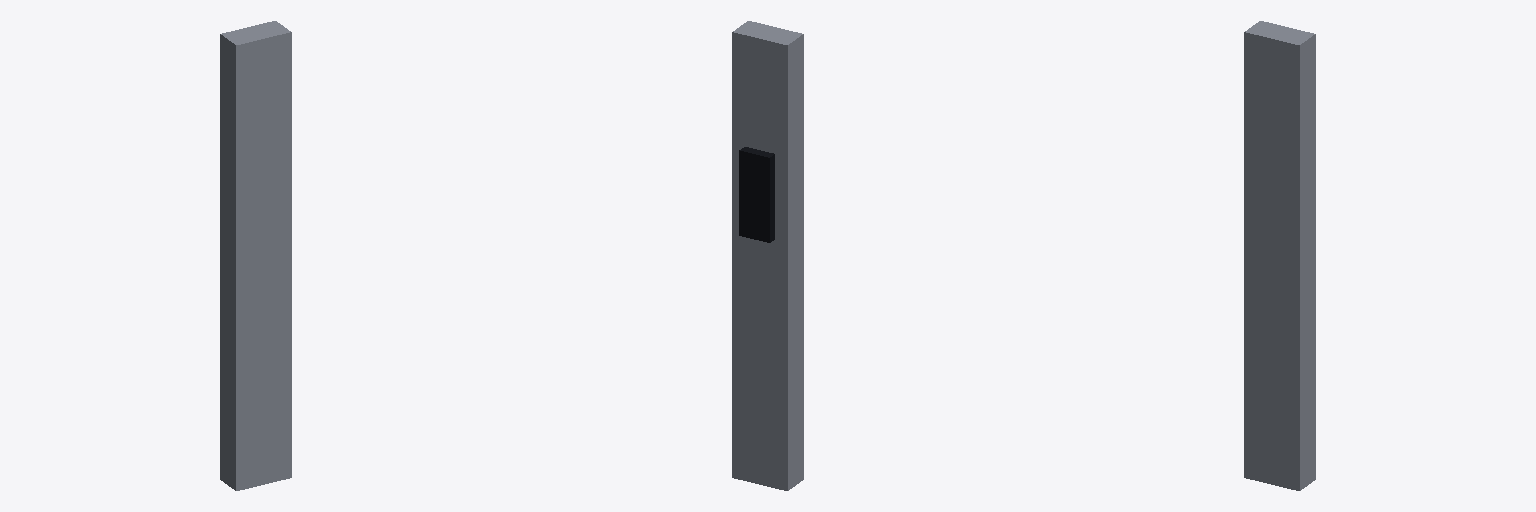
URDF robot description (artmanip_knife_023):
<?xml version='1.0' encoding='utf-8'?>
<robot name="artmanip_knife_023"><link name="link_0"><inertial><mass value="0.029" /><inertia ixx="5.7179334061244835e-05" iyy="5.789895830421468e-05" izz="1.1904530824266212e-06" ixy="0" ixz="0" iyz="0" /></inertial><visual><geometry><box size="0.019879346371322066 0.009869795506284917 0.15350244698692045" /></geometry><material name="link_0_color"><color rgba=".58 .60 .64 1" /></material></visual><collision><geometry><box size="0.019879346371322066 0.009869795506284917 0.15350244698692045" /></geometry></collision></link><link name="link_1"><inertial><mass value="0.006" /><inertia ixx="4.3743957429278305e-07" iyy="4.916446804553103e-07" izz="6.563214340941547e-08" ixy="0" ixz="0" iyz="0" /></inertial><visual><geometry><box size="0.010947020122934954 0.0033803901027674487 0.029384555660051725" /></geometry><material name="link_1_color"><color rgba=".12 .13 .15 1" /></material></visual><collision><geometry><box size="0.010947020122934954 0.0033803901027674487 0.029384555660051725" /></geometry></collision></link><joint name="slider" type="prismatic"><parent link="link_0" /><child link="link_1" /><origin xyz="0.0 0.006625092804526183 0.02371213237345703" /><axis xyz="0 0 1" /><limit lower="-0.0467374994214951" upper="0.003262500578504905" effort="100" velocity="1" /><dynamics damping="1000" friction="0.001" /></joint></robot>

--- Render facts (derived) ---
The picture shows the robot from 3 angles, left to right: view 1: azimuth 30°, elevation 25°; view 2: azimuth 150°, elevation 25°; view 3: azimuth 330°, elevation 25°; orthographic projection.
Model artmanip_knife_023 with 2 links and 1 joints (1 prismatic), rooted at link_0, posed every joint at zero.
Visible links, largest first — view 1: link_0; view 2: link_0, link_1; view 3: link_0.
Link boxes in pixels (left/top/right/bottom): link_0: left=220, top=21, right=291, bottom=490; link_0: left=732, top=21, right=803, bottom=490; link_1: left=739, top=147, right=774, bottom=242; link_0: left=1244, top=21, right=1315, bottom=490.
Bounding box of the posed robot: 0.0199 × 0.0133 × 0.1535 m (x, y, z).
Geometry: primitives only (box / cylinder / sphere), no mesh files.
